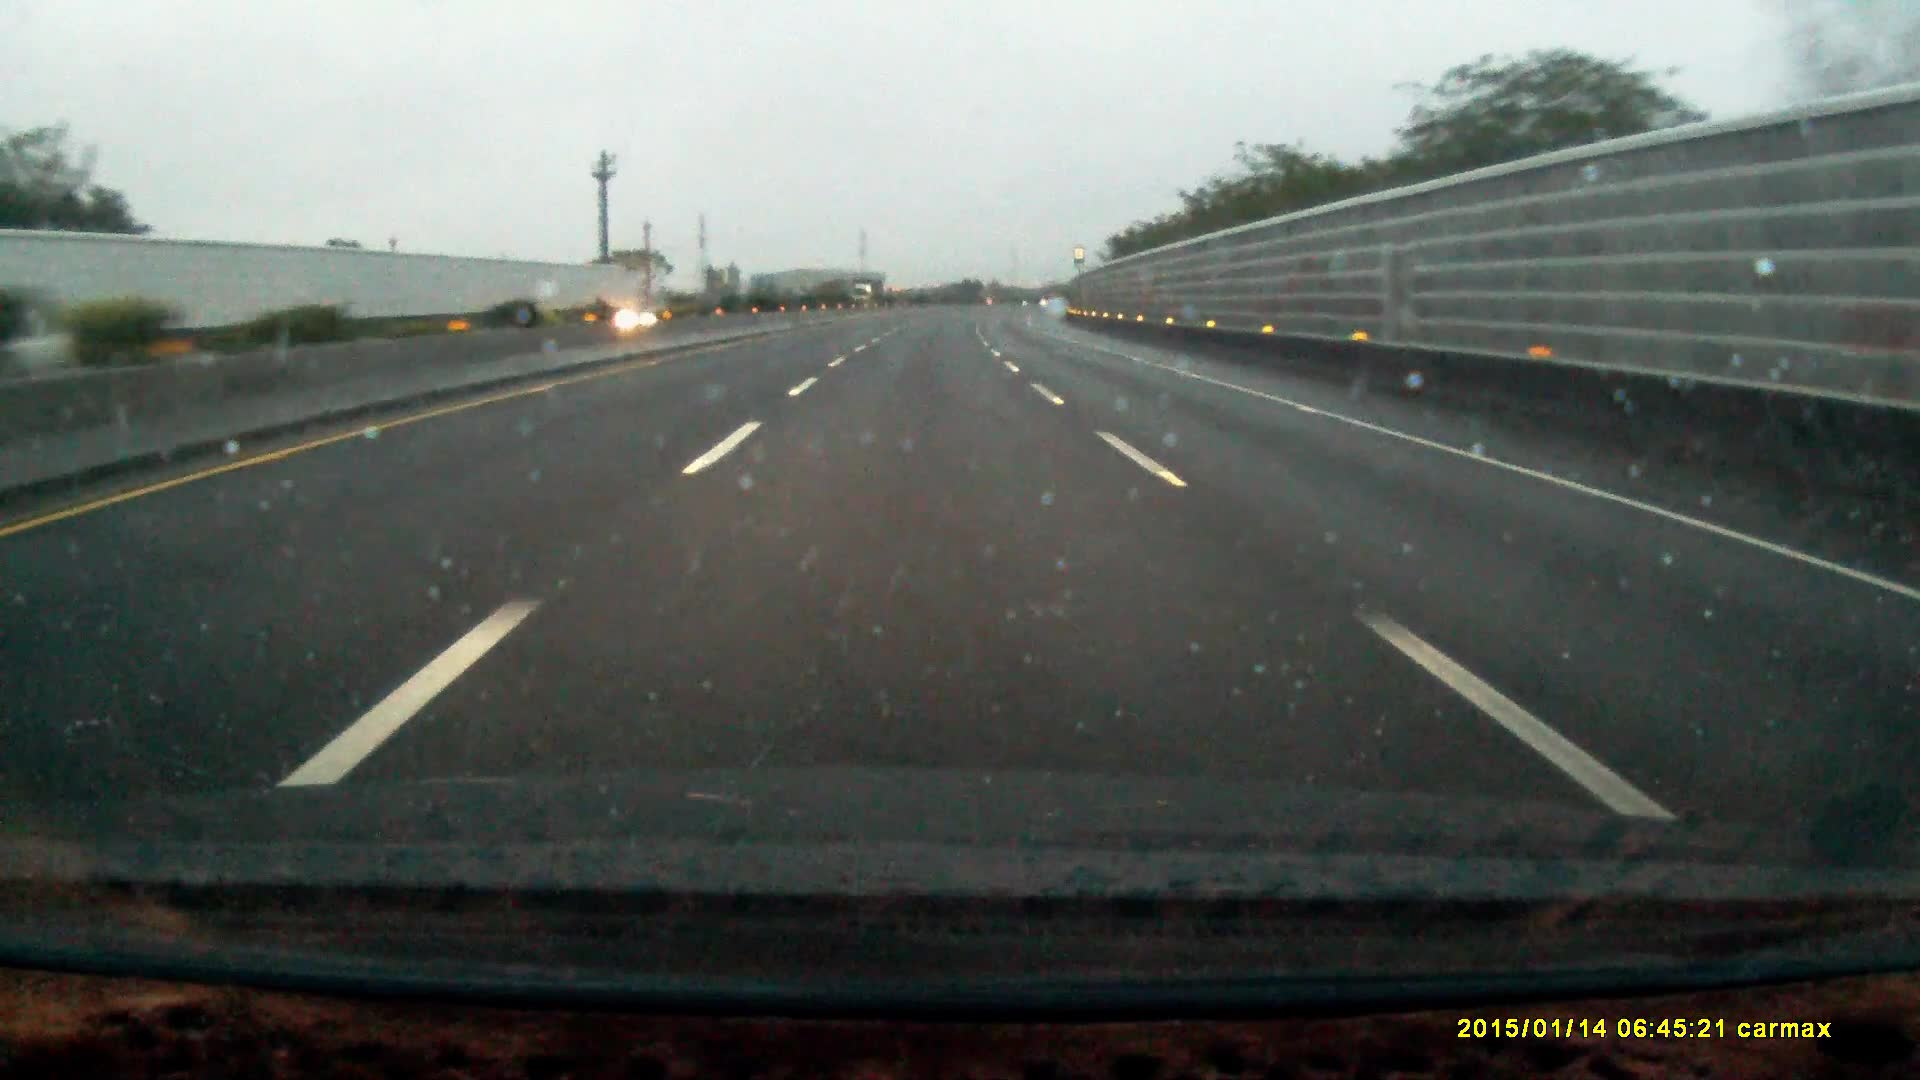vehicle: (608, 301, 680, 338), (853, 278, 886, 305)
